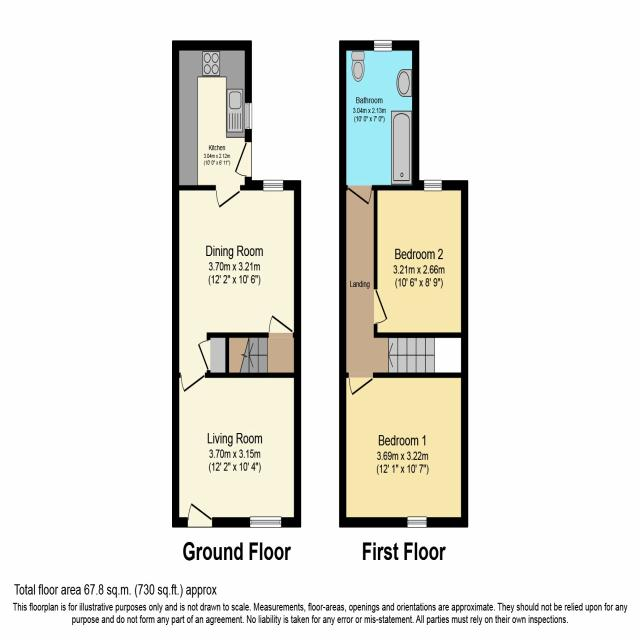DOOR: (347, 371, 374, 398), (187, 502, 213, 528), (215, 184, 242, 209), (268, 314, 294, 339), (234, 142, 252, 178), (346, 184, 373, 208), (373, 288, 389, 325), (180, 372, 206, 394), (196, 339, 211, 371)
ROOM: (171, 176, 302, 393), (171, 371, 302, 528), (338, 372, 469, 528), (373, 179, 469, 338), (171, 40, 252, 209)
WINDOW: (249, 515, 282, 529), (373, 39, 393, 53), (263, 179, 284, 192), (406, 516, 427, 529), (244, 102, 253, 130), (423, 179, 442, 192)
